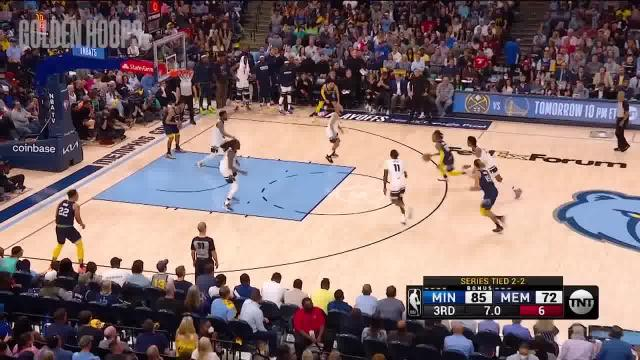ball-handler: (421, 129, 472, 185)
player: (52, 188, 88, 274), (469, 157, 508, 228), (376, 147, 411, 224), (468, 136, 511, 194), (206, 109, 236, 178), (217, 136, 246, 207), (163, 100, 187, 163), (313, 78, 343, 123), (324, 104, 346, 162)
